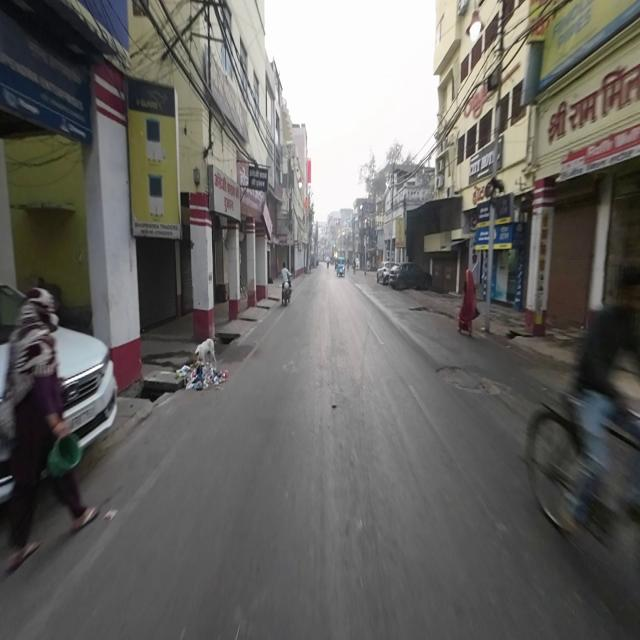Garbage: (178, 363, 228, 392)
